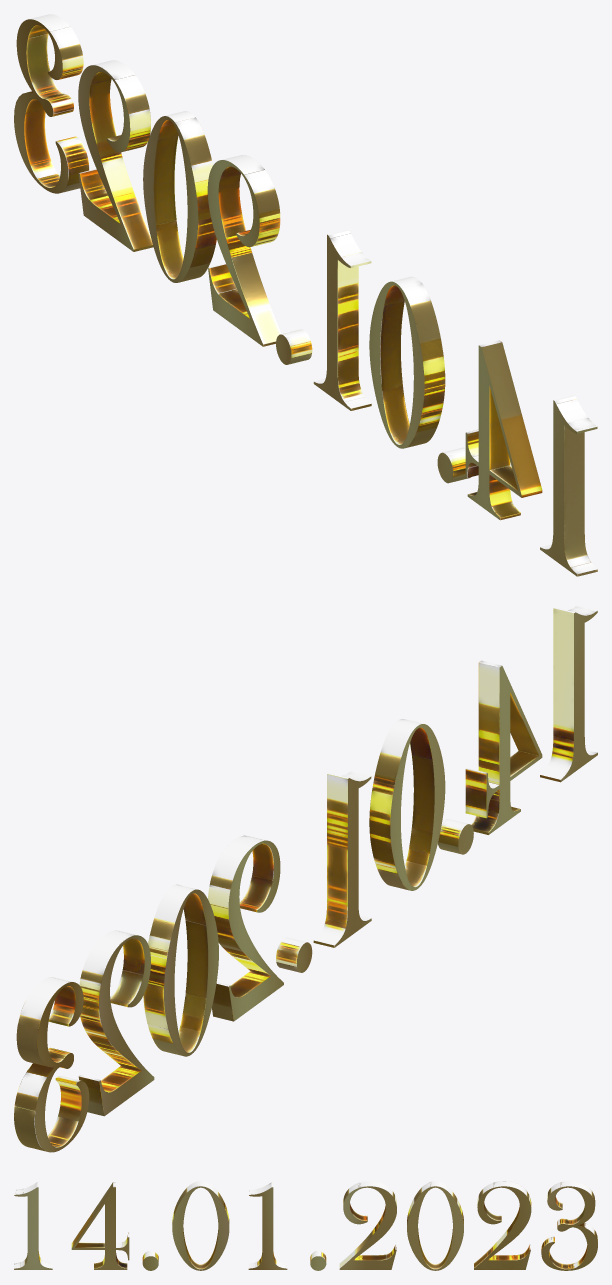
Rendered from dateBake.gltf.
3 views of the same model, one above another, from view 1: azimuth 30°, elevation 25°; view 2: azimuth 150°, elevation 25°; view 3: azimuth 270°, elevation 25° (orthographic). The views are drawn at different scales.
Visible parts, largest first — view 1: TextPlus001.002; view 2: TextPlus001.002; view 3: TextPlus001.002.
Part boxes in pixels (left/top/right/bottom): TextPlus001.002: left=14, top=14, right=597, bottom=576; TextPlus001.002: left=14, top=605, right=597, bottom=1152; TextPlus001.002: left=14, top=1181, right=597, bottom=1270.
Size of the model in its own units: 0.1047 by 0.784 by 4.91.
1 material, 1 textured.
